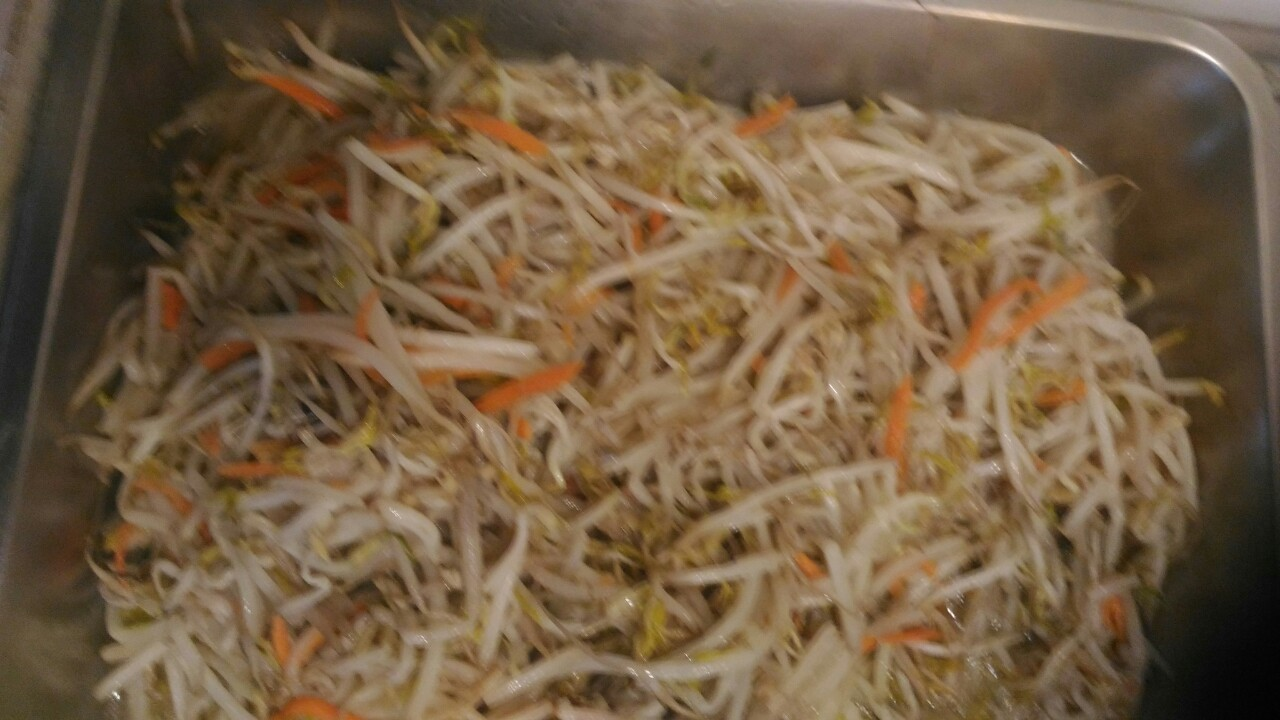mung_bean_sprouts: (122, 74, 1153, 720)
